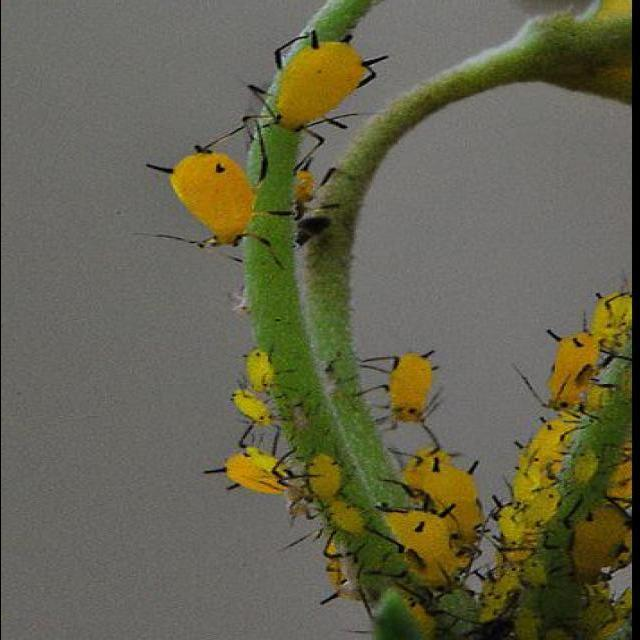aphid: (235, 15, 414, 156), (128, 138, 284, 287), (202, 415, 312, 507), (348, 344, 448, 442), (380, 486, 460, 589), (240, 345, 300, 387), (230, 392, 290, 432), (303, 452, 349, 504), (320, 496, 370, 532), (532, 421, 536, 423)
